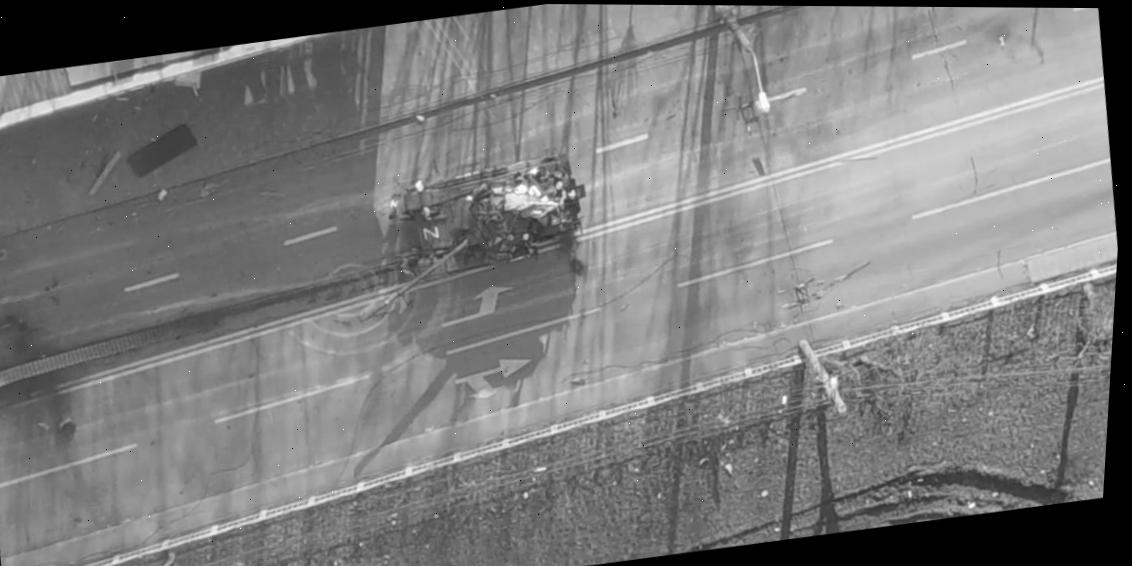tank: (343, 146, 601, 323)
